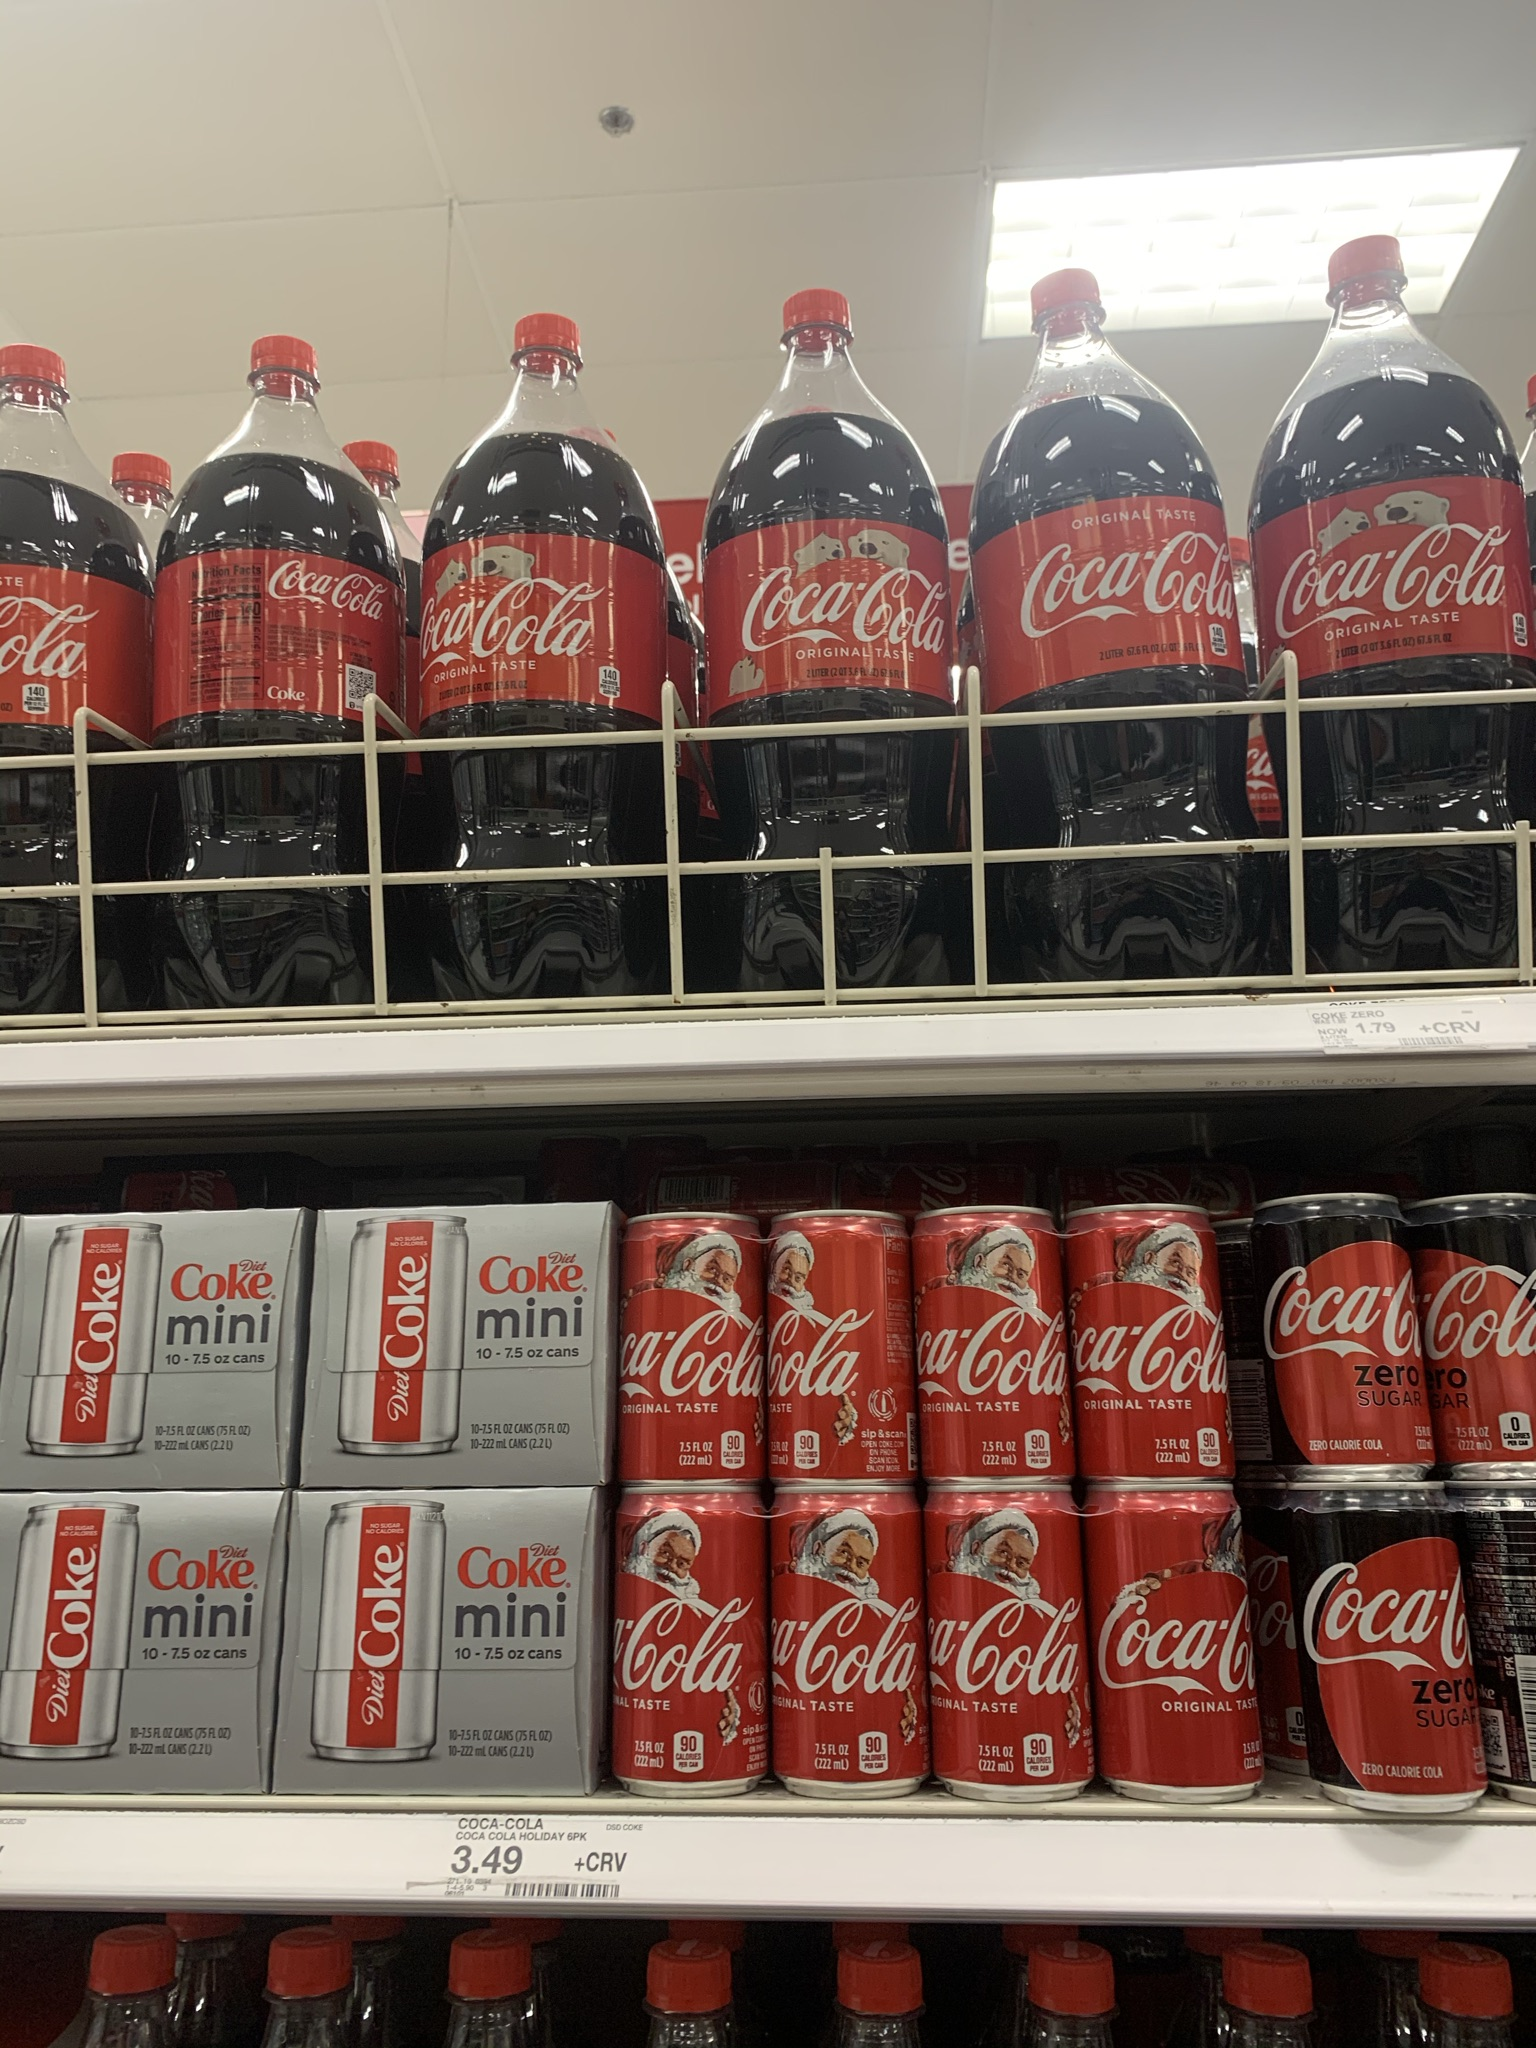Soda: (1250, 234, 1534, 969), (962, 264, 1244, 980), (694, 285, 958, 987), (423, 306, 674, 998), (153, 331, 408, 1011), (286, 1493, 586, 1792), (315, 1205, 597, 1485), (3, 1493, 265, 1792), (10, 1214, 286, 1492), (1296, 1493, 1489, 1814), (920, 1484, 1097, 1804), (1084, 1487, 1255, 1800), (765, 1484, 933, 1800), (1262, 1192, 1434, 1471), (611, 1485, 765, 1793), (913, 1203, 1071, 1484), (1075, 1203, 1233, 1477), (616, 1206, 762, 1487), (771, 1201, 908, 1487)
